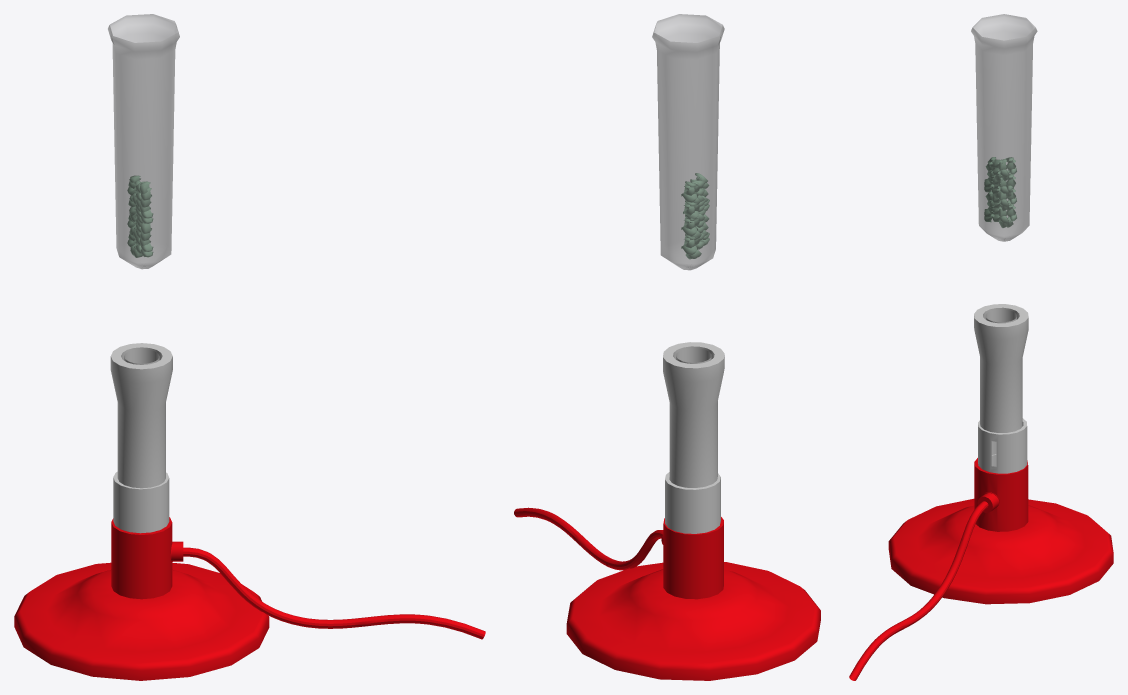
Rendered from fe_crstal_experiment.fbx.
3 views of the same model, side by side, from view 1: azimuth 30°, elevation 25°; view 2: azimuth 150°, elevation 25°; view 3: azimuth 270°, elevation 25° (orthographic). The views are drawn at different scales.
Parts seen in each view (by area): view 1: bunsen_burner1, testtube1, ferous_sulphate; view 2: bunsen_burner1, testtube1, ferous_sulphate; view 3: bunsen_burner1, testtube1, ferous_sulphate.
Boxes of the visible parts, x1,y1,x2,y2 form: bunsen_burner1: (14, 343, 485, 680); testtube1: (108, 14, 179, 269); ferous_sulphate: (127, 175, 153, 257); bunsen_burner1: (514, 342, 820, 680); testtube1: (652, 14, 724, 270); ferous_sulphate: (681, 173, 709, 259); bunsen_burner1: (849, 304, 1113, 680); testtube1: (971, 14, 1037, 241); ferous_sulphate: (984, 157, 1016, 227).
Bounding box in the file's own units: 28.7 × 45.22 × 19.95.
